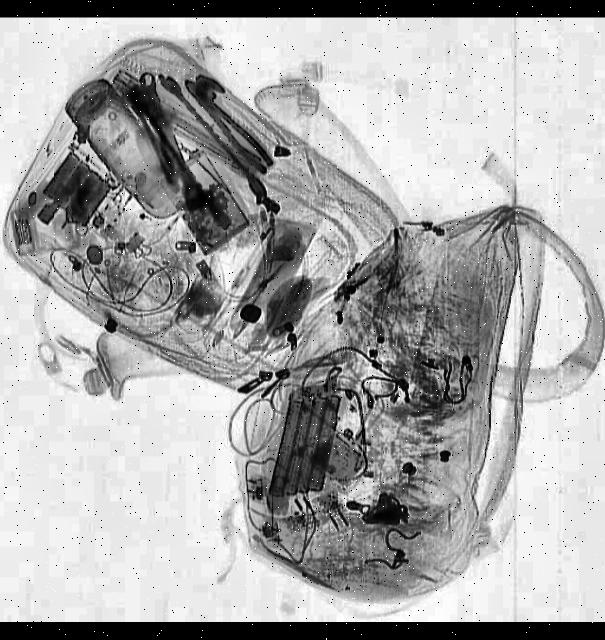Pliers: (177, 73, 280, 180)
